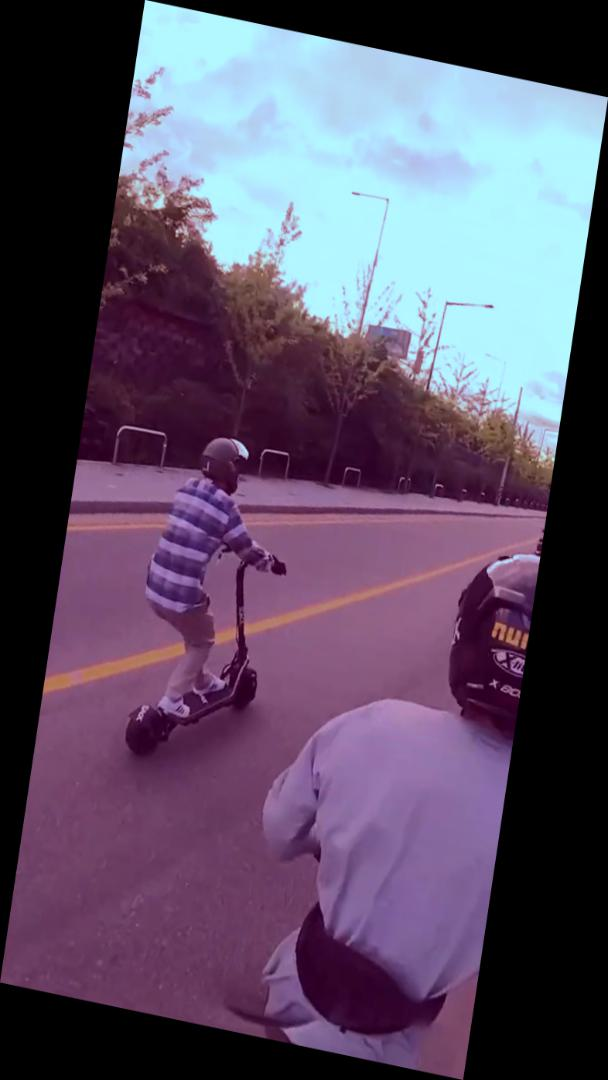helmet: (116, 419, 307, 787)
